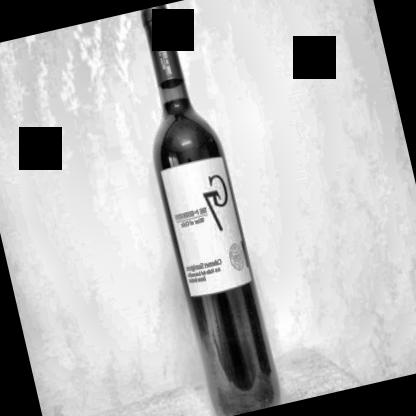G7: (160, 158, 252, 302)
